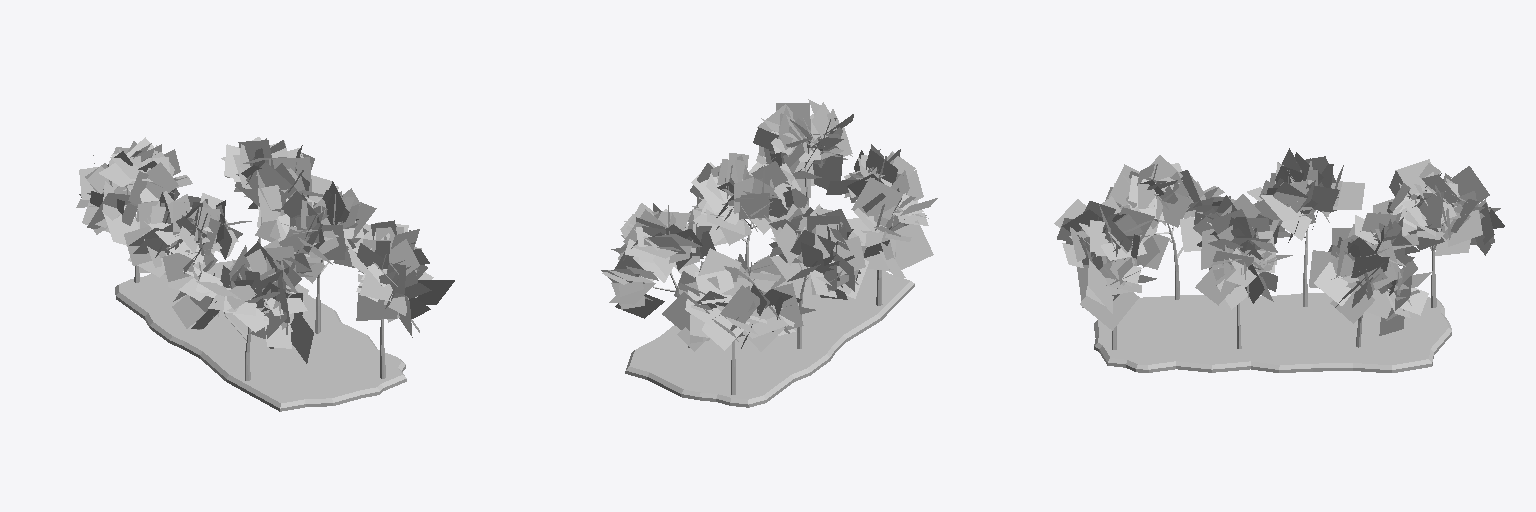
The model's file is cf_col_f.obj.
3 renders of one model, left to right at view 1: azimuth 30°, elevation 25°; view 2: azimuth 150°, elevation 25°; view 3: azimuth 270°, elevation 25°, orthographic.
Parts seen in each view (by area): view 1: forest_Plane.001, t3.002, t2.002, t6, t1, t5, t4; view 2: forest_Plane.001, t1, t3.002, t5, t4, t2.002, t6; view 3: forest_Plane.001, t4, t6, t1, t5, t2.002, t3.002.
Part boxes in pixels (x1,y1,x2,y2): forest_Plane.001: (115, 260, 406, 411); t3.002: (172, 239, 313, 380); t2.002: (124, 191, 251, 329); t6: (345, 220, 454, 378); t1: (76, 137, 192, 282); t5: (270, 181, 376, 333); t4: (221, 137, 338, 243); forest_Plane.001: (625, 256, 914, 407); t1: (662, 248, 815, 394); t3.002: (826, 144, 937, 305); t5: (688, 153, 809, 267); t4: (601, 203, 715, 347); t2.002: (769, 204, 868, 348); t6: (749, 99, 853, 205); forest_Plane.001: (1094, 293, 1451, 372); t4: (1309, 212, 1431, 347); t6: (1054, 196, 1156, 349); t1: (1373, 159, 1504, 307); t5: (1180, 194, 1292, 348); t2.002: (1247, 148, 1364, 306); t3.002: (1105, 155, 1254, 299).
Bounding box in the file's own units: 14.8 × 9.58 × 25.04.